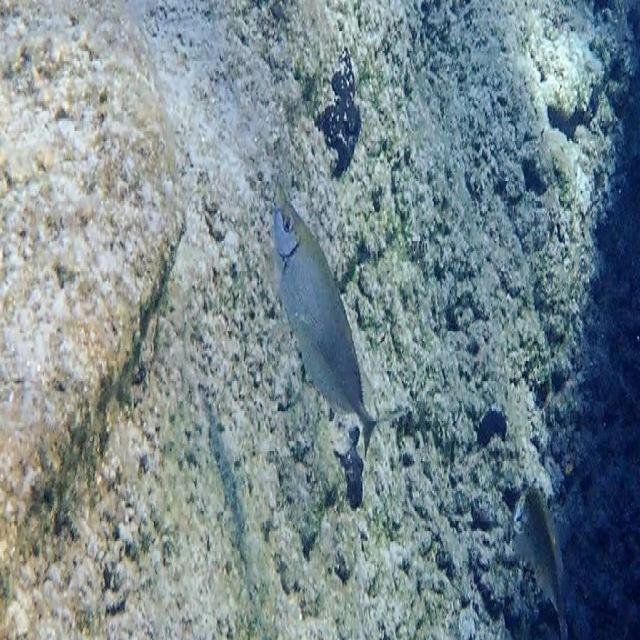Sokar Baligi: (256, 151, 410, 488)
